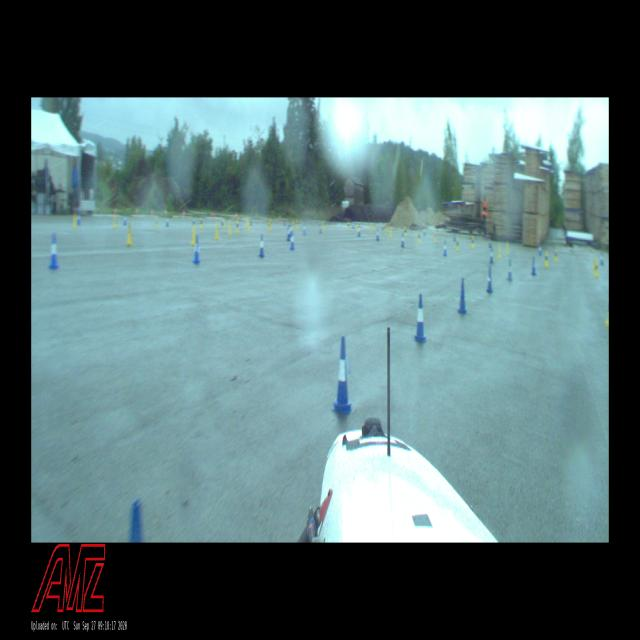blue_cone: (332, 335, 354, 415), (415, 294, 426, 342), (49, 233, 60, 270), (459, 278, 466, 314), (193, 240, 201, 264), (487, 266, 492, 294), (507, 261, 513, 282), (531, 256, 537, 276), (259, 235, 264, 256), (290, 231, 295, 250), (443, 240, 447, 256), (77, 210, 81, 226), (600, 250, 604, 265), (538, 243, 542, 256), (401, 235, 405, 248), (376, 229, 380, 241), (357, 226, 361, 237), (287, 228, 290, 242), (490, 248, 493, 262), (489, 235, 492, 248), (302, 223, 306, 232)
yellow_cone: (127, 226, 133, 247), (592, 257, 598, 277), (605, 298, 609, 326), (544, 250, 549, 268), (554, 248, 558, 262), (471, 235, 475, 248), (417, 230, 421, 242), (74, 212, 77, 228), (192, 227, 195, 242), (456, 237, 459, 251), (228, 221, 231, 235), (498, 245, 501, 257), (235, 220, 238, 232), (434, 230, 437, 242), (246, 221, 250, 230), (506, 242, 509, 254), (200, 218, 203, 229), (216, 225, 218, 240), (347, 221, 350, 231), (389, 228, 392, 237), (322, 220, 325, 229), (155, 219, 158, 228), (404, 226, 406, 237), (384, 223, 386, 233), (268, 221, 270, 230), (223, 220, 225, 227)
